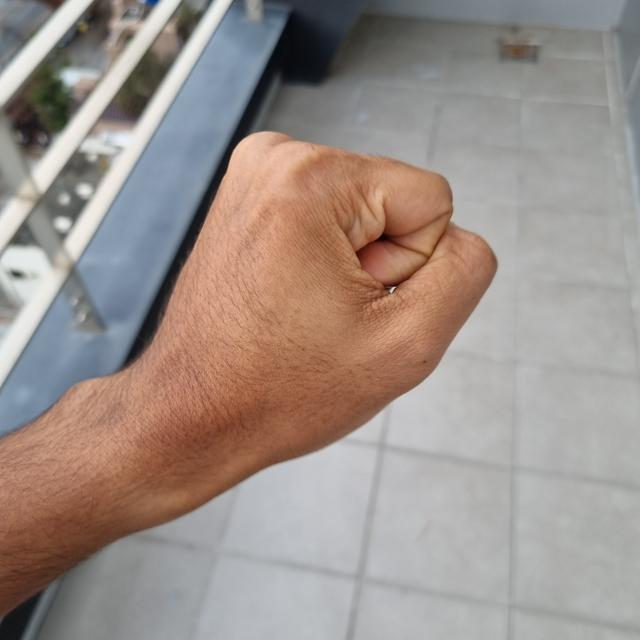Rock: (120, 136, 494, 491)
